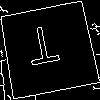T: (23, 24, 62, 75)
